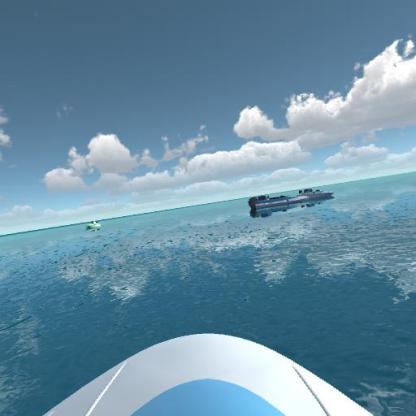usv0: (85, 218, 104, 232)
usv1: (247, 191, 312, 216), (295, 185, 337, 204)
